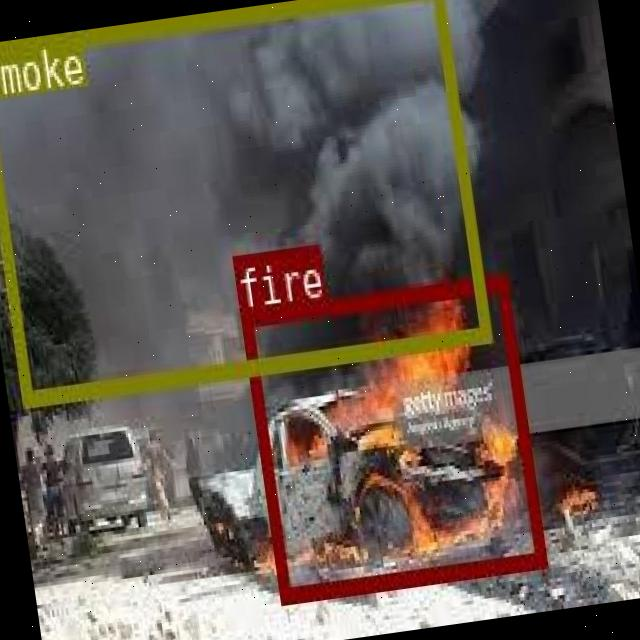fire: (239, 274, 544, 603)
smoke: (0, 0, 489, 406)
